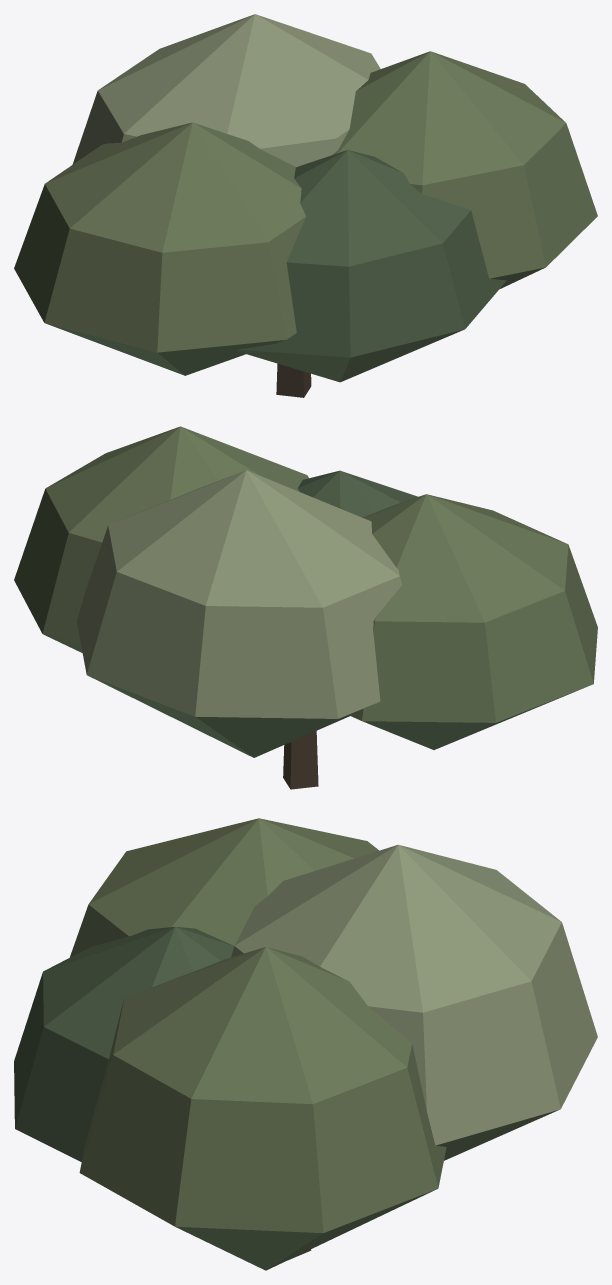
File: Small_Shrub.fbx
3 views of the same model, one above another, from view 1: azimuth 30°, elevation 25°; view 2: azimuth 150°, elevation 25°; view 3: azimuth 270°, elevation 25° (orthographic). The views are drawn at different scales.
Visible parts, largest first — view 1: Small_Shrub; view 2: Small_Shrub; view 3: Small_Shrub.
Part boxes in pixels (x1,y1,x2,y2): Small_Shrub: [14, 14, 597, 397]; Small_Shrub: [14, 426, 597, 789]; Small_Shrub: [14, 818, 597, 1270].
Size of the model in its own units: 1.07 by 0.65 by 0.8384.
